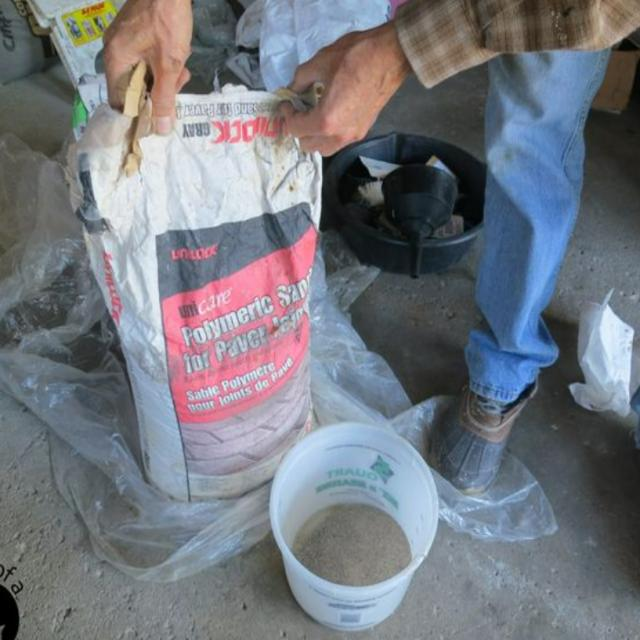KantongSemen: (62, 81, 324, 504)
